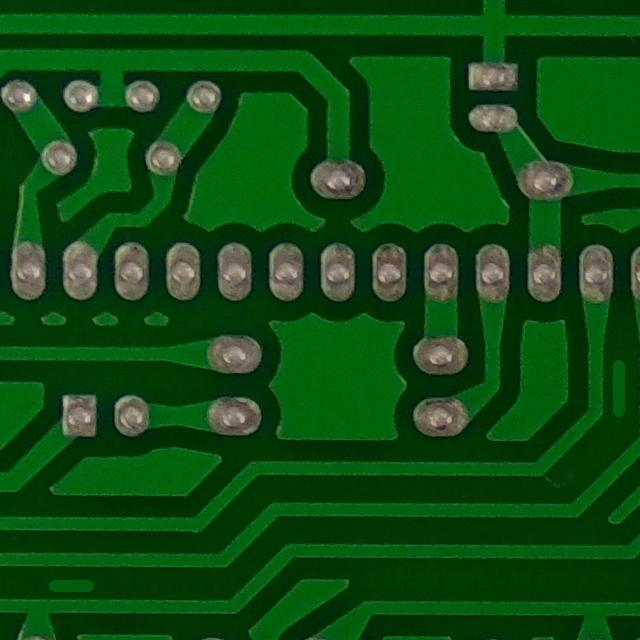spurious_copper: (597, 348, 640, 426), (35, 563, 102, 606)
